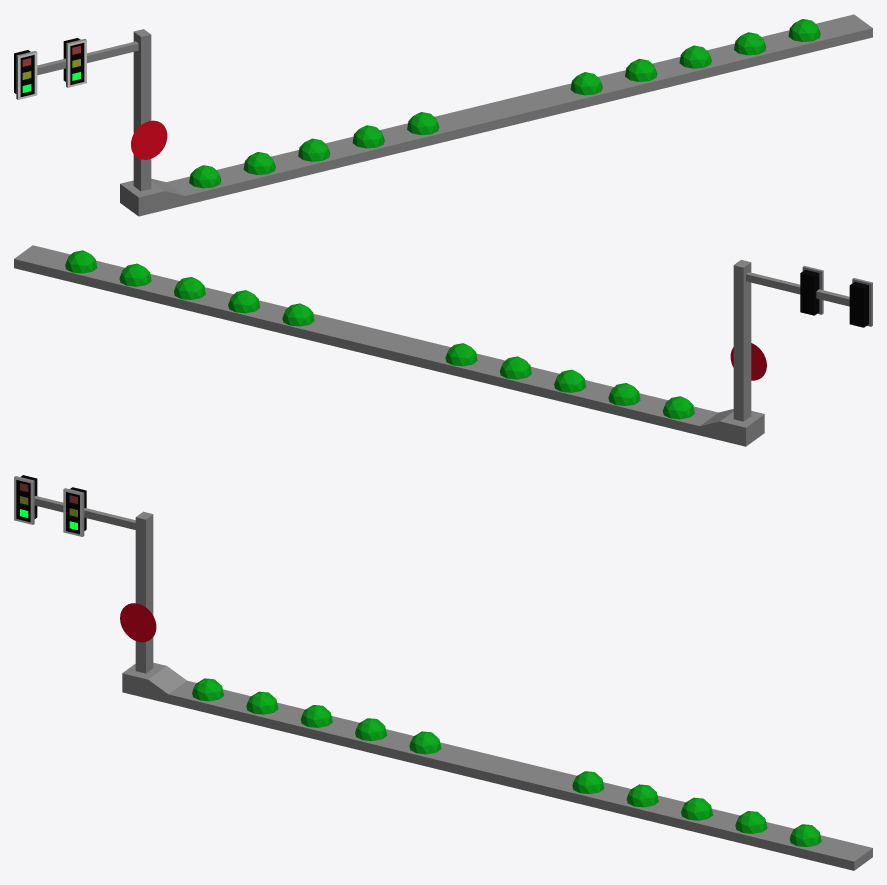
Rendered from Intersection_Barrier.fbx.
The picture shows the model from 3 angles, top to bottom: view 1: azimuth 30°, elevation 25°; view 2: azimuth 150°, elevation 25°; view 3: azimuth 330°, elevation 25°; orthographic projection.
Visible parts, largest first — view 1: Cube.008, Cube.027, Circle, Icosphere.010, Icosphere.008, Icosphere.004, Icosphere.003, Icosphere.005, Icosphere.009, Icosphere.002, Icosphere.001, Icosphere.012 (+1 smaller); view 2: Cube.008, Cube.027, Icosphere.011, Icosphere.009, Icosphere.004, Icosphere.008, Icosphere.003, Icosphere.010, Icosphere.005, Icosphere.012, Icosphere.001, Icosphere.002 (+1 smaller); view 3: Cube.008, Cube.027, Circle.
Boxes of the visible parts, x1,y1,x2,y2 form: Cube.008: [120, 14, 872, 216]; Cube.027: [14, 29, 151, 191]; Circle: [131, 120, 167, 159]; Icosphere.010: [679, 45, 711, 68]; Icosphere.008: [570, 72, 602, 95]; Icosphere.004: [352, 125, 384, 148]; Icosphere.003: [298, 138, 330, 161]; Icosphere.005: [407, 112, 439, 135]; Icosphere.009: [625, 59, 657, 81]; Icosphere.002: [189, 165, 221, 188]; Icosphere.001: [243, 152, 275, 174]; Icosphere.012: [788, 19, 820, 41]; Cube.008: [14, 245, 764, 446]; Cube.027: [733, 260, 872, 421]; Icosphere.011: [119, 263, 151, 286]; Icosphere.009: [228, 290, 260, 313]; Icosphere.004: [499, 356, 531, 379]; Icosphere.008: [282, 303, 314, 326]; Icosphere.003: [554, 369, 586, 392]; Icosphere.010: [173, 277, 205, 299]; Icosphere.005: [445, 343, 477, 366]; Icosphere.012: [65, 250, 97, 273]; Icosphere.001: [608, 383, 640, 405]; Icosphere.002: [663, 396, 694, 419]; Cube.008: [122, 662, 872, 870]; Cube.027: [14, 475, 153, 673]; Circle: [120, 603, 156, 642].
Bounding box in the file's own units: 3375 × 718 × 130.
